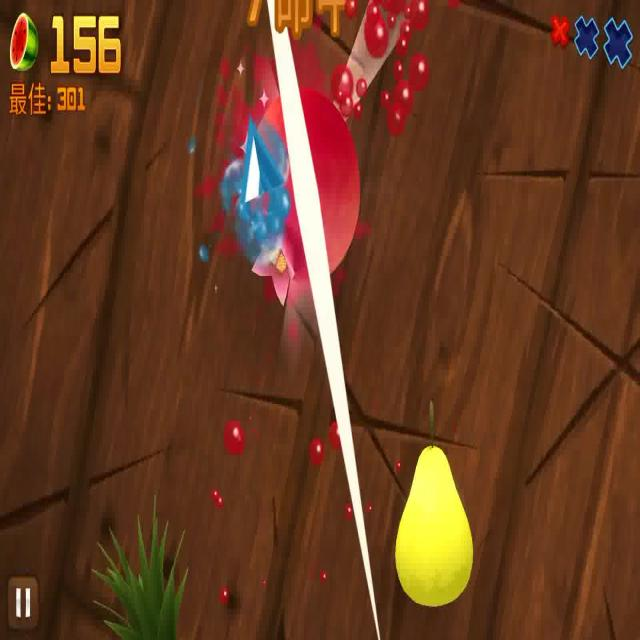fruit: (253, 89, 359, 282), (397, 447, 472, 604)
